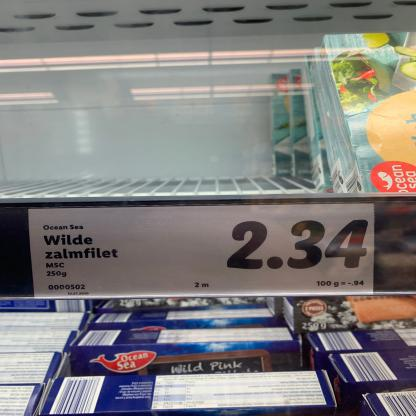prtg: (29, 205, 375, 300)
